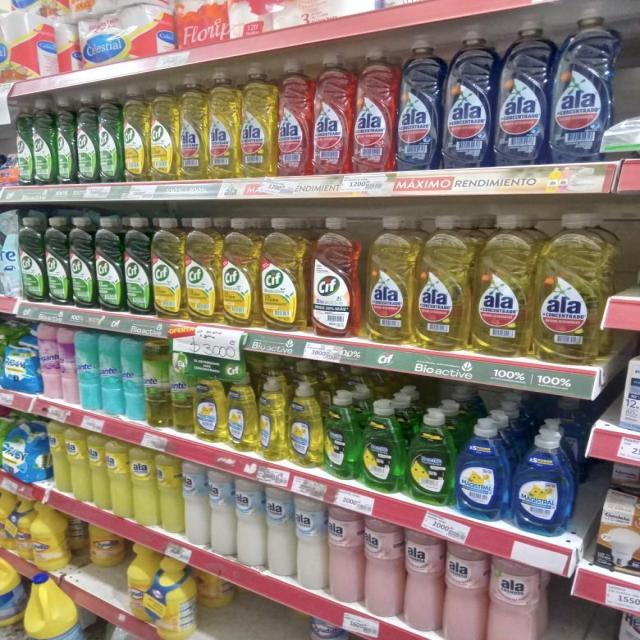ala_conc_amarillo: (536, 212, 608, 365), (473, 212, 533, 357), (416, 213, 472, 351), (365, 214, 414, 344), (240, 61, 275, 178), (208, 67, 239, 179), (179, 72, 207, 180)
ala_conc_azul: (551, 4, 615, 164), (496, 16, 549, 168), (443, 23, 494, 170), (396, 32, 442, 172)
ala_conc_rojo: (353, 44, 395, 174), (312, 50, 352, 176), (277, 57, 311, 177)
ala_crem_amarillo: (131, 445, 155, 527), (68, 426, 88, 501), (51, 421, 68, 494)
ala_crem_blanco: (295, 494, 326, 592), (235, 476, 264, 569), (266, 484, 294, 579), (208, 468, 234, 558)
ala_crem_rosado: (488, 557, 542, 640), (443, 541, 486, 640), (404, 529, 442, 633), (364, 516, 402, 618), (327, 504, 362, 605)
cif_conc_bot_amarilla: (260, 216, 306, 331), (221, 215, 259, 327), (185, 216, 220, 323), (152, 217, 184, 319), (149, 80, 178, 182), (123, 84, 149, 182)
cif_conc_botella_roja: (310, 214, 361, 339)
cif_conc_botella_verde: (124, 217, 151, 316), (96, 215, 122, 312), (98, 89, 122, 183), (70, 215, 94, 308), (20, 214, 44, 302), (46, 216, 69, 306), (33, 97, 55, 185), (77, 92, 97, 184), (56, 96, 76, 184), (17, 101, 32, 185)
magistral_con_amarillo: (288, 382, 322, 468), (258, 376, 286, 462), (227, 375, 256, 453), (194, 374, 226, 443)
magistral_con_azul: (513, 428, 573, 536), (456, 417, 509, 520)
